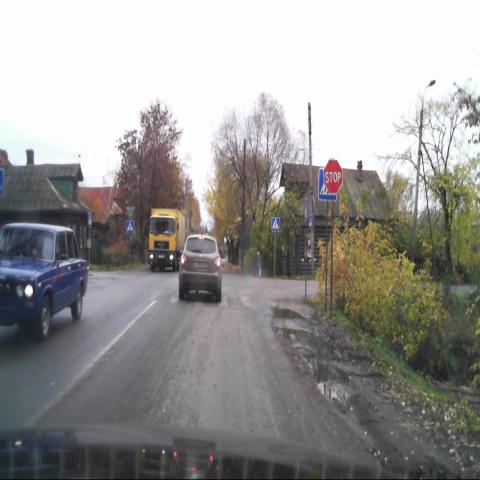2_5: (323, 160, 343, 194)
